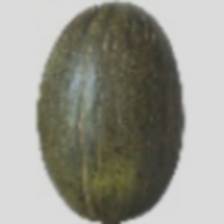honeydew: (24, 47, 224, 186)
